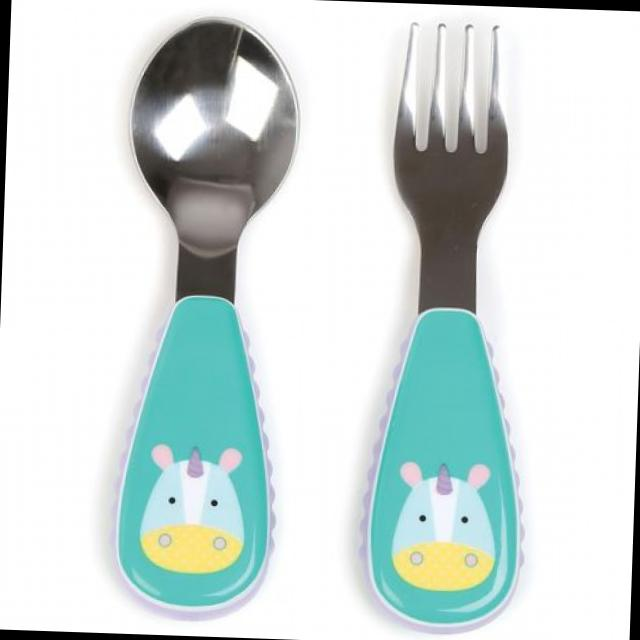fork: (347, 18, 559, 634)
spoon: (92, 6, 316, 634)
